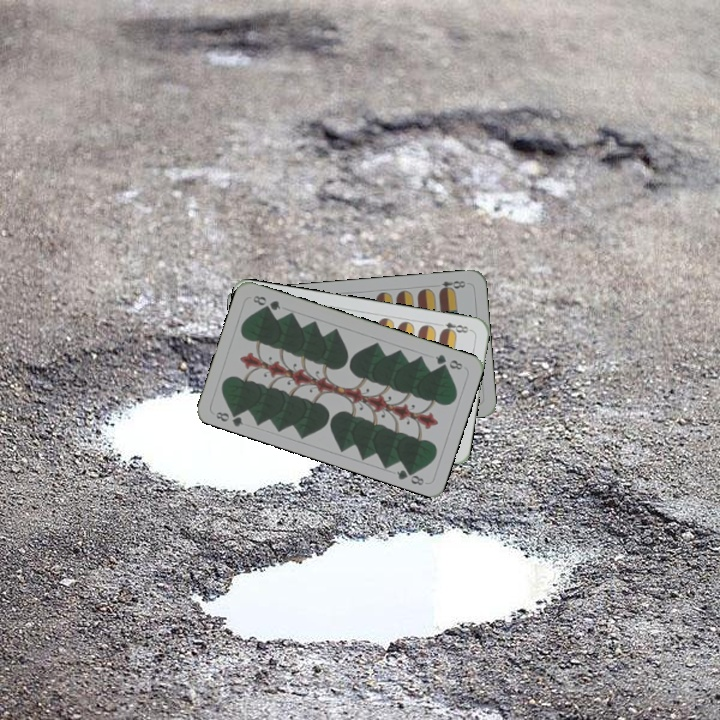E8: (437, 318, 474, 337), (435, 277, 468, 295)
G8: (212, 405, 246, 429), (431, 350, 465, 372)
